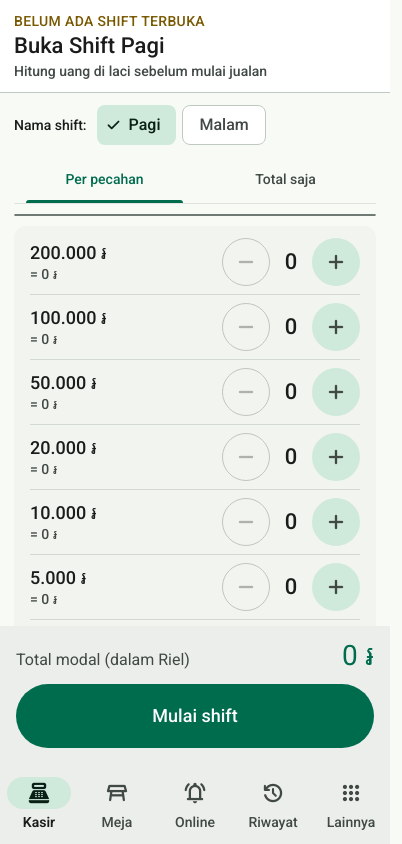
Test: Kasir – pilih menu › belum ada shift: tampil form Buka shift di layar kasir
Expected: the heading "Buka Shift Pagi" is shown, [14,33,164,58]
Click the button named "Tambah 100.000 ៛". click: (336, 327)
box: [312,303,360,351]
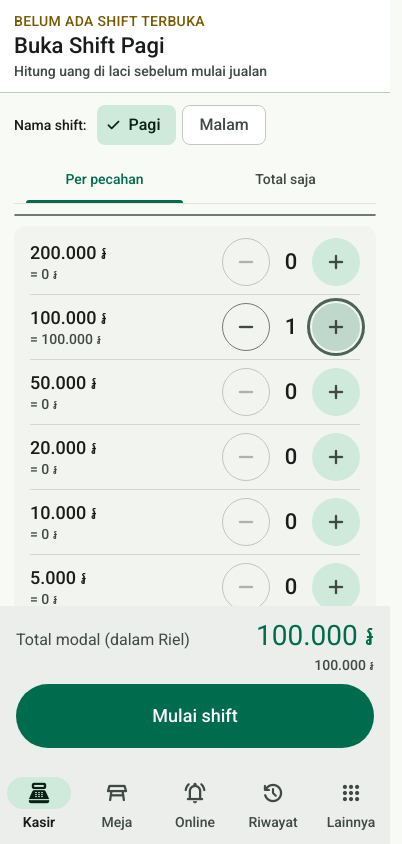
Result: the text with test id "opening-total" reads "100.000 ៛" at [256,619,374,652]
